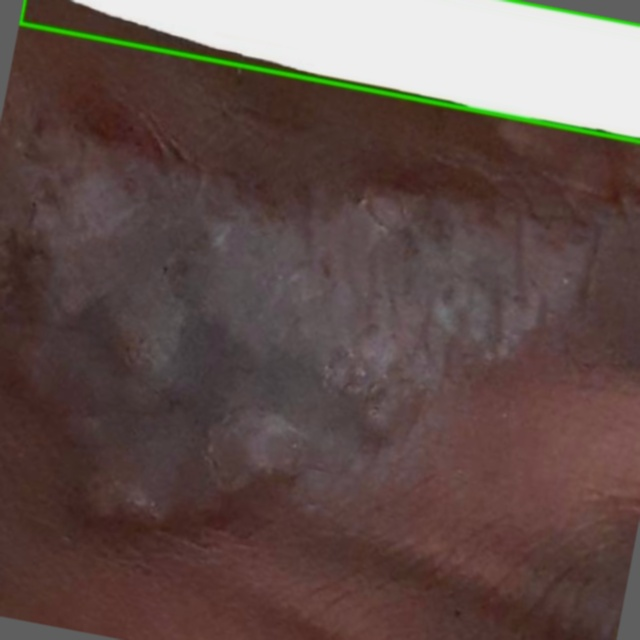Seborrheic Dermatitis: (20, 0, 639, 142)
